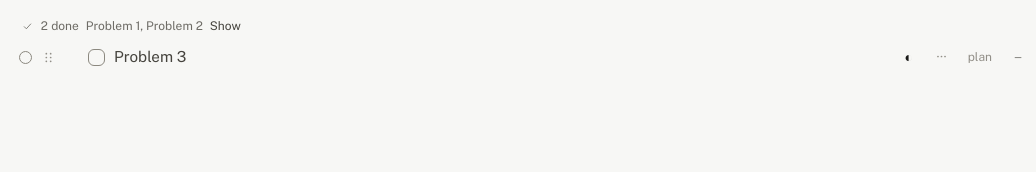
Test: folding finished work › gives every row back on Show, checkbox and all
Click the button "2 done Problem 1, Problem 2 Show": (64, 26) [18,14,1030,38]
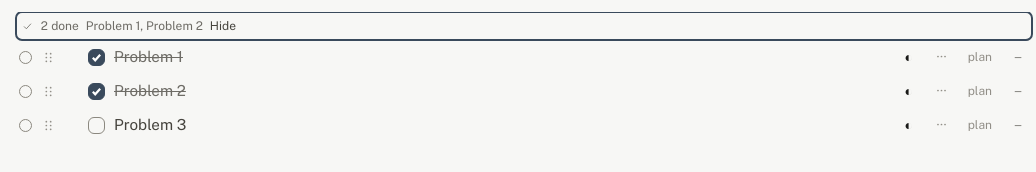
Result: the text "Problem 1" is shown at [114,48,183,65]
Result: the checkbox named "Mark \"Problem 1\" as done" is shown at [84,45,108,69]
Result: the button "2 done Problem 1, Problem 2 Hide" is expanded at [18,14,1030,38]
